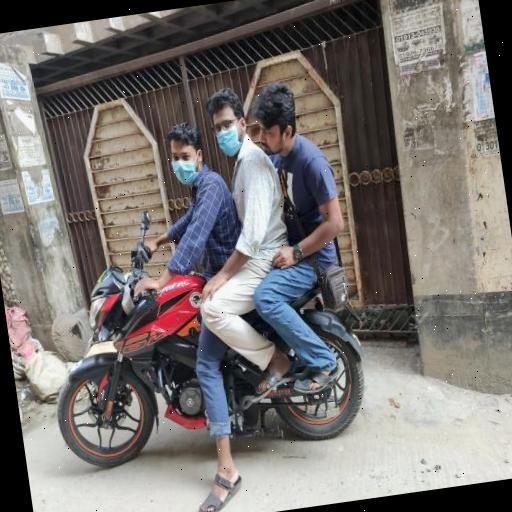no helmet: (156, 105, 229, 216)
triple riding: (18, 62, 397, 512)
